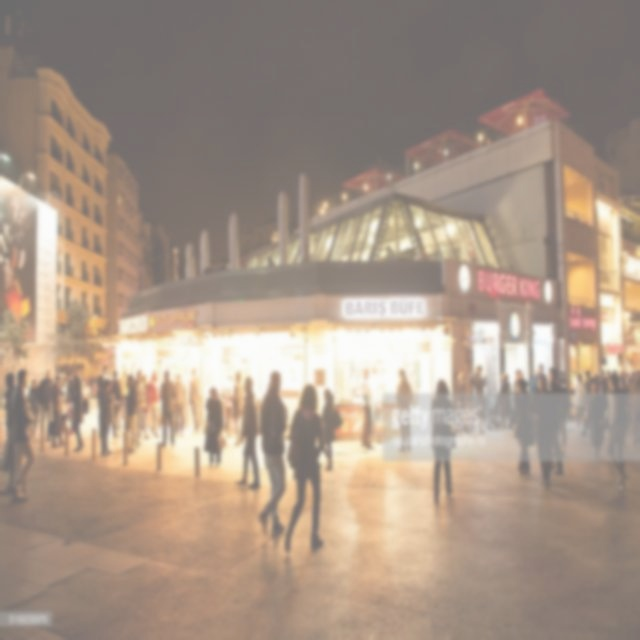pessoa: (282, 382, 328, 556), (256, 368, 290, 538), (428, 376, 459, 506), (10, 368, 36, 502), (528, 371, 556, 489), (236, 374, 261, 491), (540, 364, 566, 476), (604, 372, 628, 490), (512, 374, 536, 478), (202, 383, 226, 471), (0, 371, 16, 496), (583, 379, 608, 458), (395, 366, 414, 454), (158, 368, 178, 448), (366, 362, 385, 445), (554, 376, 572, 458), (68, 373, 86, 452), (319, 388, 336, 470), (49, 372, 67, 448), (122, 372, 138, 454), (98, 378, 114, 458), (110, 370, 126, 440), (594, 367, 635, 394), (359, 366, 372, 450), (147, 368, 162, 440), (472, 364, 487, 436), (187, 364, 202, 434), (498, 371, 514, 433), (37, 368, 55, 422), (132, 368, 144, 449), (172, 372, 187, 436), (579, 369, 593, 437), (628, 368, 640, 447), (572, 370, 588, 427), (232, 371, 244, 446), (454, 366, 467, 434), (138, 373, 150, 440), (64, 371, 76, 434), (28, 378, 40, 439), (116, 368, 130, 420), (222, 383, 233, 439), (599, 387, 612, 434), (530, 362, 548, 391), (80, 367, 98, 394), (596, 368, 610, 398), (218, 382, 226, 429), (548, 440, 558, 474), (512, 369, 524, 397), (96, 363, 112, 382), (146, 416, 164, 431), (556, 368, 568, 386), (492, 389, 500, 408), (624, 375, 632, 393), (619, 376, 627, 394)
